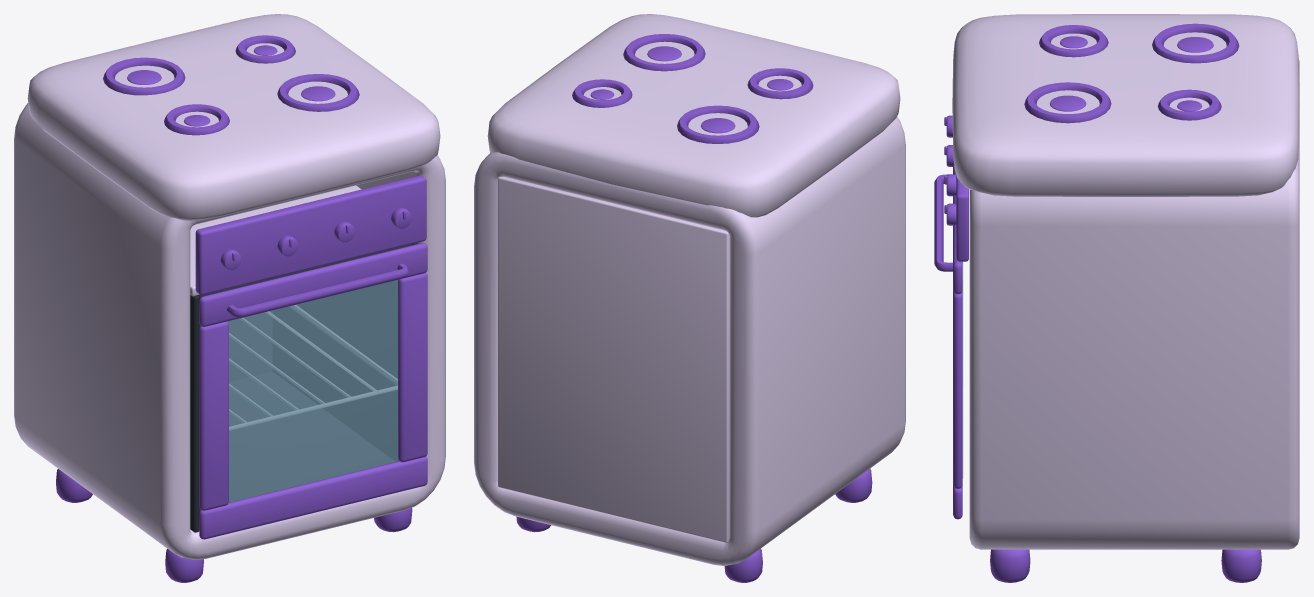
The model's file is fogao_retro_fofo_lilas.glb.
3 renders of one model, left to right at view 1: azimuth 30°, elevation 25°; view 2: azimuth 150°, elevation 25°; view 3: azimuth 270°, elevation 25°, orthographic. The views are drawn at different scales.
Parts seen in each view (by area): view 1: fogao_retro_fofo_lilas, porta_forno; view 2: fogao_retro_fofo_lilas; view 3: fogao_retro_fofo_lilas, porta_forno.
Part boxes in pixels (x1,y1,x2,y2): fogao_retro_fofo_lilas: [14, 14, 445, 582]; porta_forno: [199, 243, 427, 539]; fogao_retro_fofo_lilas: [474, 14, 905, 582]; fogao_retro_fofo_lilas: [944, 14, 1299, 582]; porta_forno: [934, 167, 963, 519].
Bounding box in the file's own units: 0.6 × 0.8675 × 0.631.
2 materials, 1 textured.
